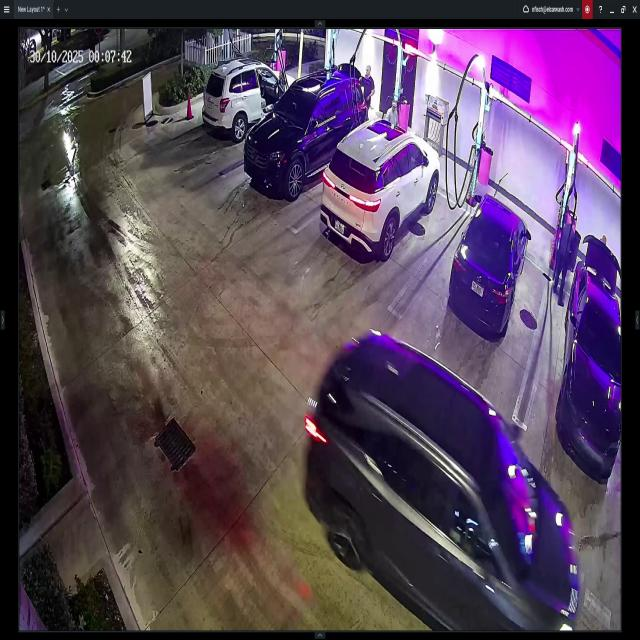Car: (303, 333, 574, 640), (319, 119, 440, 260), (244, 68, 366, 194), (559, 240, 621, 473), (451, 196, 529, 339), (204, 65, 298, 137)
